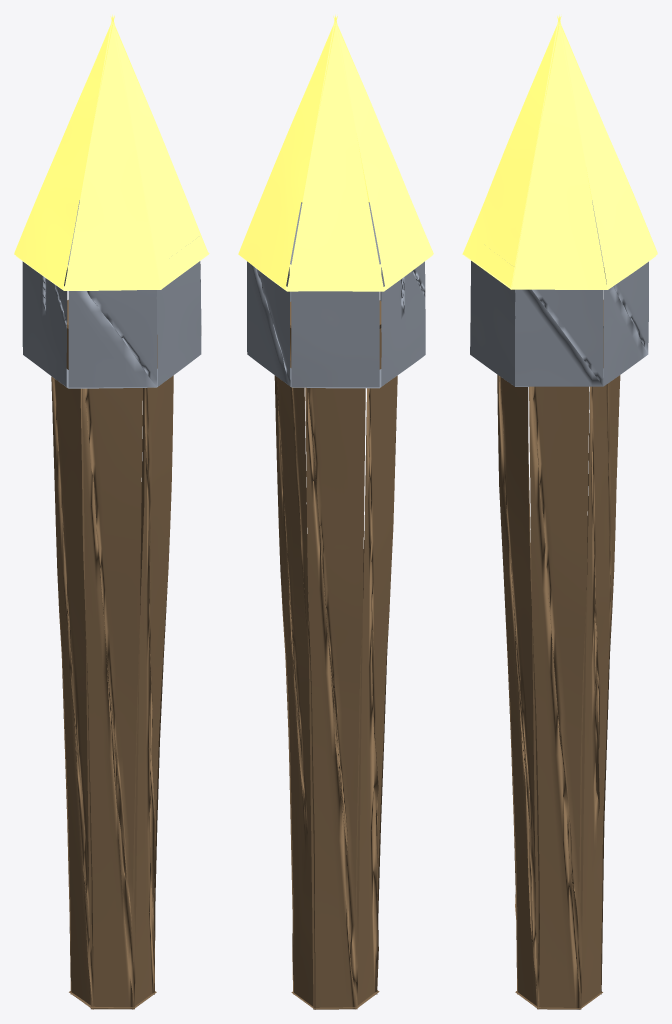
File: torch.glb
3 views of the same model, side by side, from view 1: azimuth 30°, elevation 25°; view 2: azimuth 150°, elevation 25°; view 3: azimuth 270°, elevation 25° (orthographic).
Visible parts, largest first — view 1: TorchPost; view 2: TorchPost; view 3: TorchPost.
Boxes of the visible parts, x1,y1,x2,y2 form: TorchPost: (14, 14, 209, 1009); TorchPost: (238, 14, 433, 1009); TorchPost: (462, 14, 657, 1009).
Size of the model in its own units: 0.386 by 2.45 by 0.4435.
